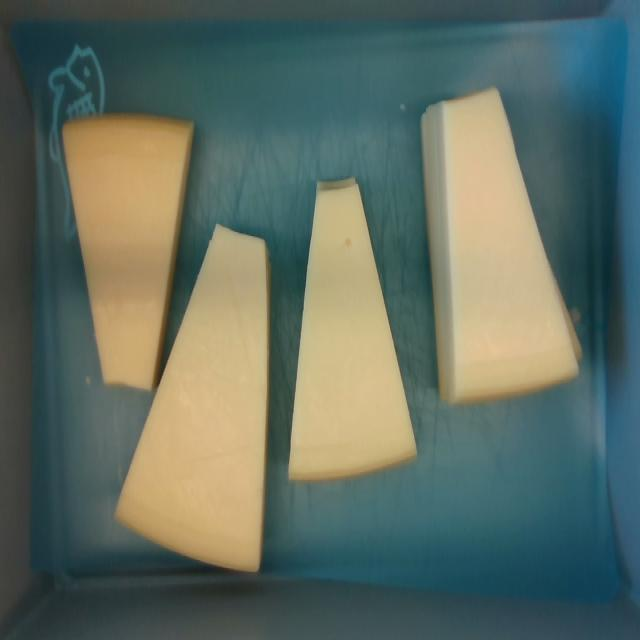cheese: (116, 225, 269, 571), (442, 88, 580, 401), (288, 179, 415, 479), (64, 115, 193, 388)
